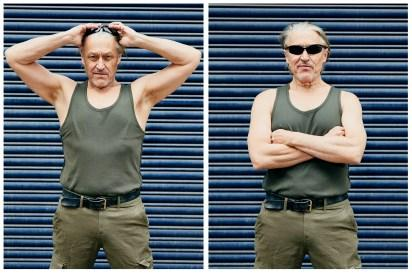trousers: (254, 193, 362, 271), (48, 192, 155, 270)
vest: (55, 80, 147, 198), (262, 83, 352, 195)
